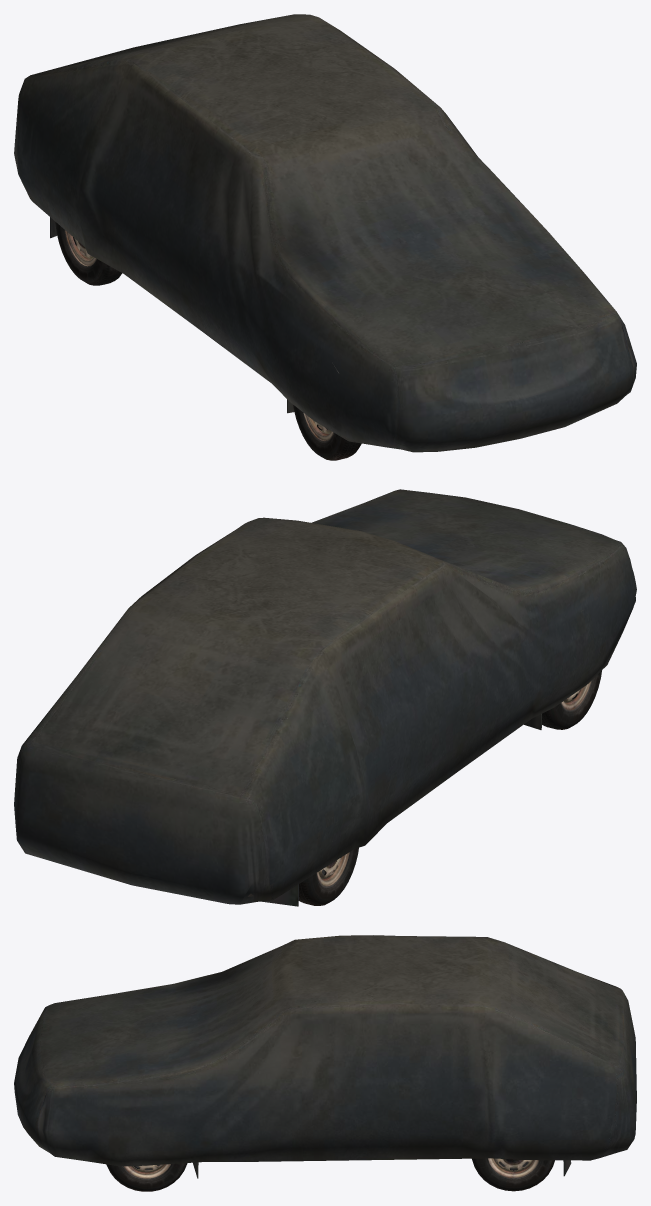
File: covered_car.glb
The picture shows the model from 3 angles, top to bottom: view 1: azimuth 30°, elevation 25°; view 2: azimuth 150°, elevation 25°; view 3: azimuth 270°, elevation 25°; orthographic projection. The views are drawn at different scales.
Visible parts, largest first — view 1: covered_car, covered_car_wheel_03, covered_car_wheel_02; view 2: covered_car, covered_car_wheel_03, covered_car_wheel_02; view 3: covered_car, covered_car_wheel_04, covered_car_wheel_01.
Part boxes in pixels (<box>): covered_car: <box>14,14,636,452</box>; covered_car_wheel_03: <box>55,222,122,285</box>; covered_car_wheel_02: <box>293,405,361,460</box>; covered_car: <box>14,489,636,906</box>; covered_car_wheel_03: <box>298,847,358,905</box>; covered_car_wheel_02: <box>542,670,601,729</box>; covered_car: <box>14,935,636,1178</box>; covered_car_wheel_04: <box>472,1158,554,1191</box>; covered_car_wheel_01: <box>106,1163,187,1191</box>.
Size of the model in its own units: 1.79 by 1.41 by 4.38.
Materials: 2 (2 with a texture image).
